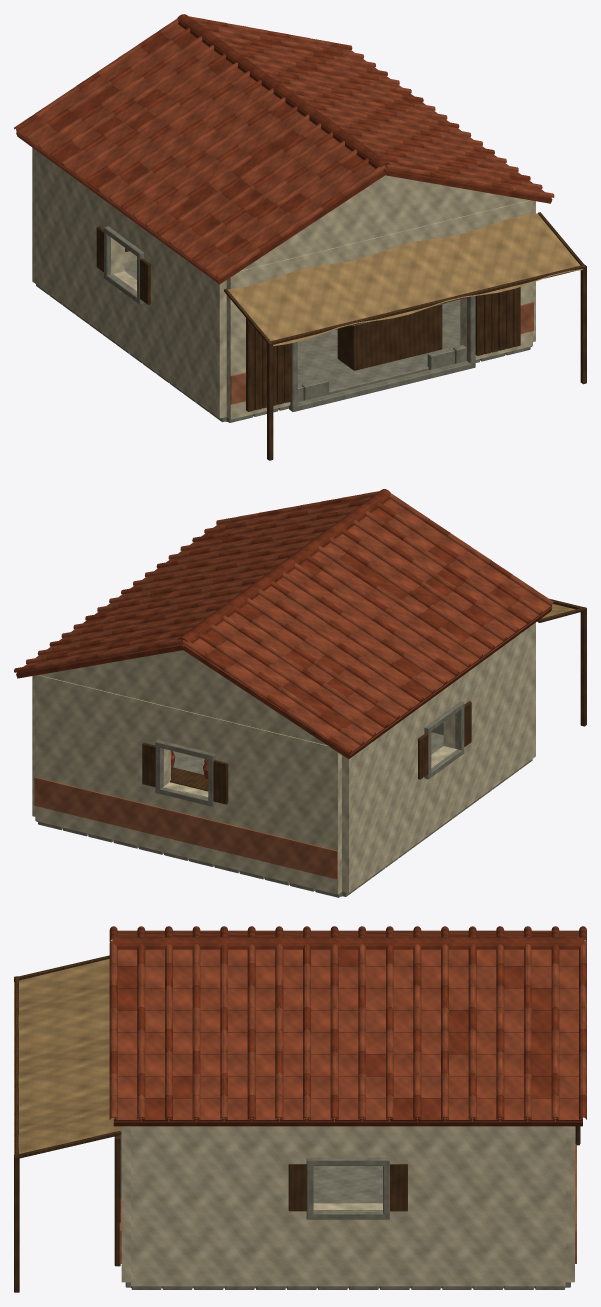
The model's file is taberna_lod0.glb.
The picture shows the model from 3 angles, top to bottom: view 1: azimuth 30°, elevation 25°; view 2: azimuth 150°, elevation 25°; view 3: azimuth 270°, elevation 25°; orthographic projection. The views are drawn at different scales.
Visible parts, largest first — view 1: taberna_lod0; view 2: taberna_lod0; view 3: taberna_lod0.
Part boxes in pixels (x1,y1,x2,y2): taberna_lod0: (14,14,586,460); taberna_lod0: (14,489,586,897); taberna_lod0: (14,926,586,1292).
Size of the model in its own units: 7.78 by 5.05 by 9.89.
Materials: 8 (8 with a texture image).
